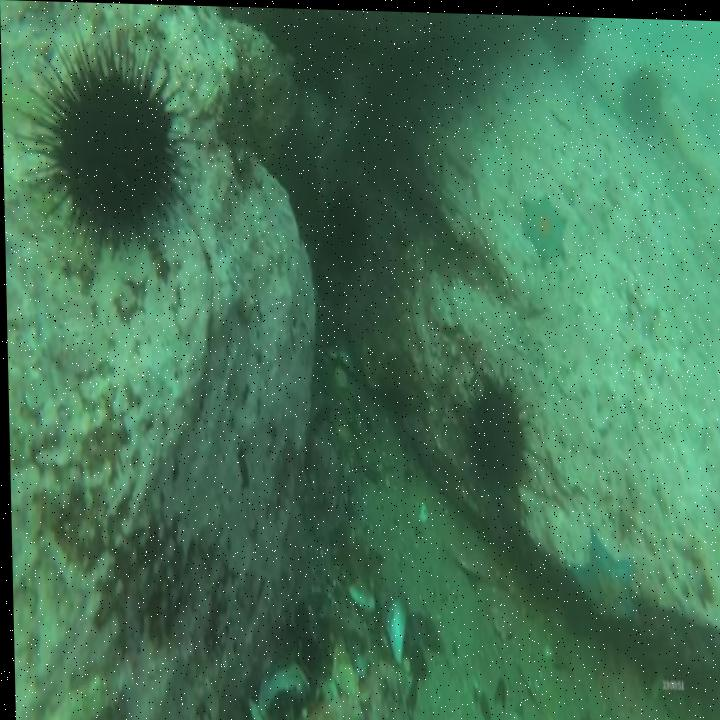echinus: (53, 69, 173, 238), (462, 380, 524, 490), (326, 191, 365, 269), (623, 64, 661, 129)
starfish: (567, 522, 634, 630), (518, 191, 566, 262)
